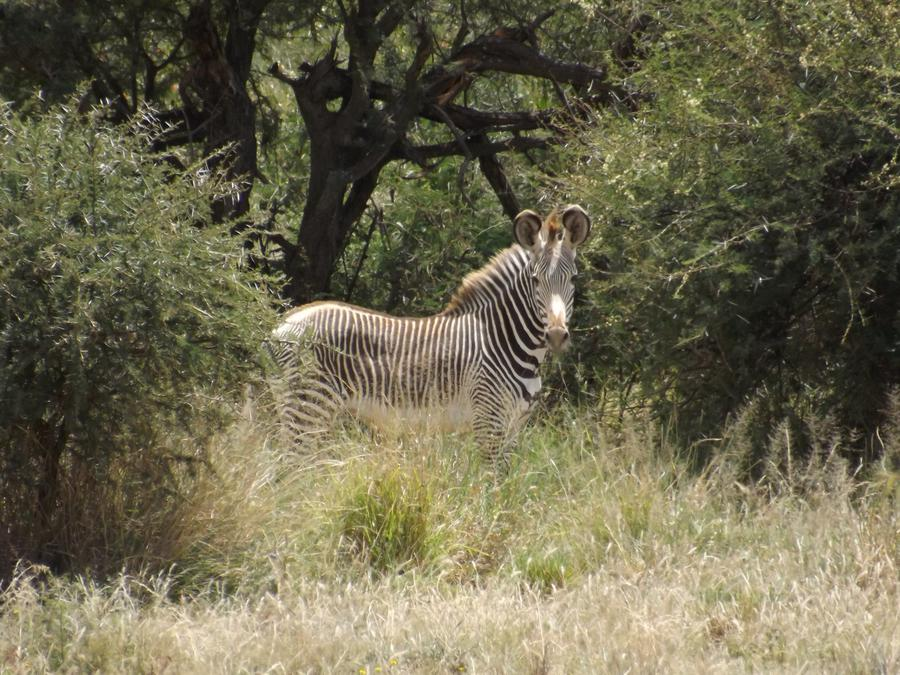zebra_grevys: (279, 282, 519, 428)
